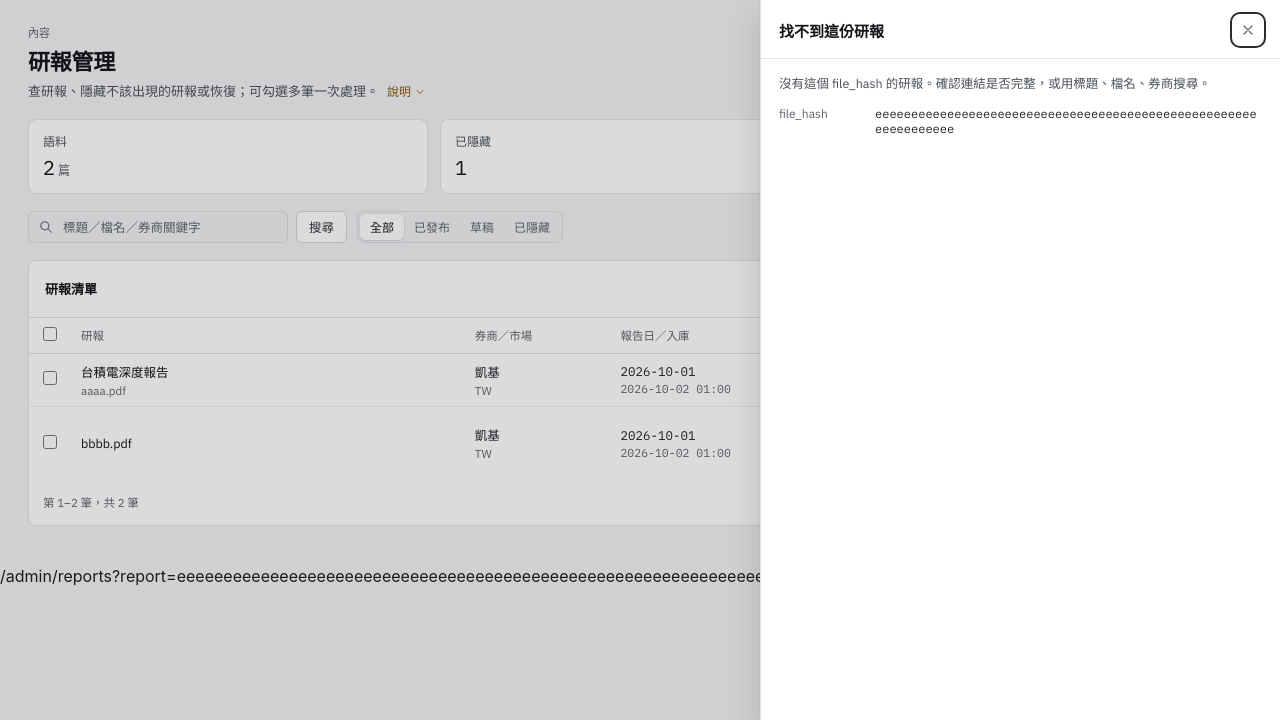
Test: 網址帶的 file_hash 不存在（404）：說找不到並列出 hash，不再說「不在目前這一頁」
The width and height of the screenshot is (1280, 720).
Expected: the message shows "沒有這個 file_hash 的研報", [779,75,1211,91]
Click the button named "關閉".
click(1248, 30)  # box [1234,16,1262,44]
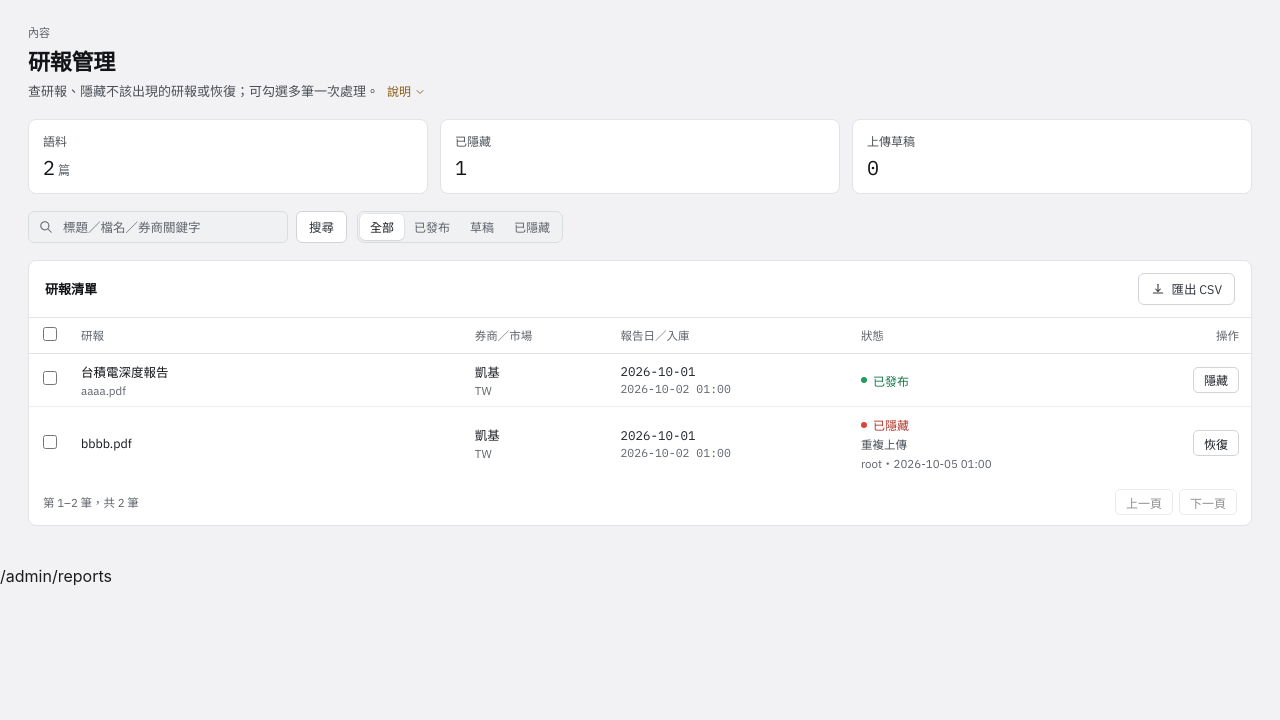
Expected: the text with test id "where" reads "/admin/reports", [0,566,112,586]
